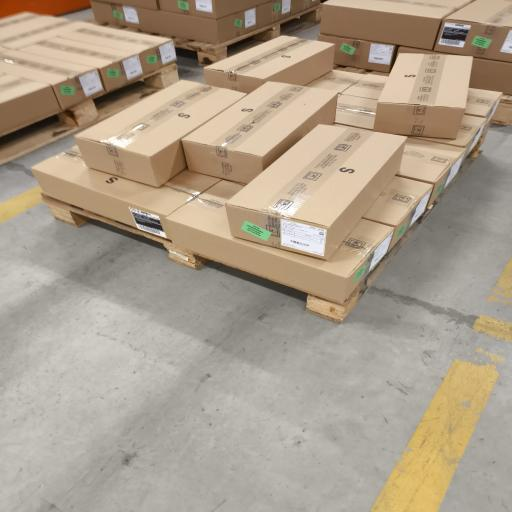pallet: (306, 151, 481, 323), (306, 157, 474, 323), (0, 64, 178, 164), (42, 194, 207, 269), (306, 223, 418, 323), (173, 5, 321, 66), (492, 94, 512, 126)
